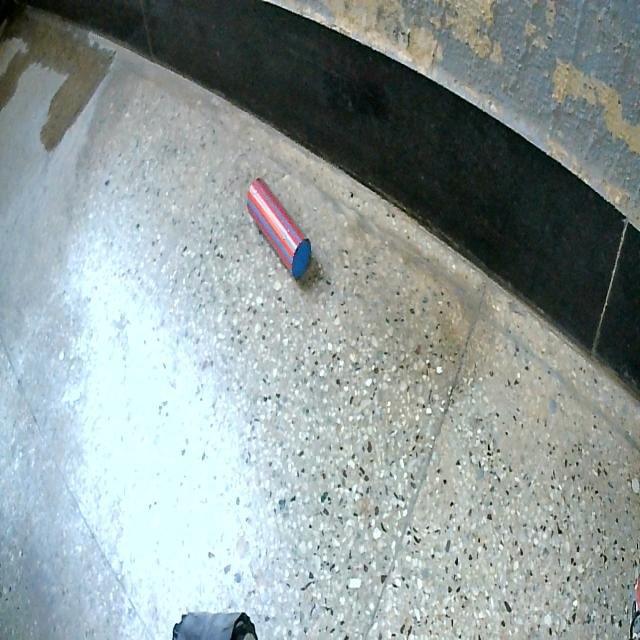cylinder: (234, 162, 320, 294)
